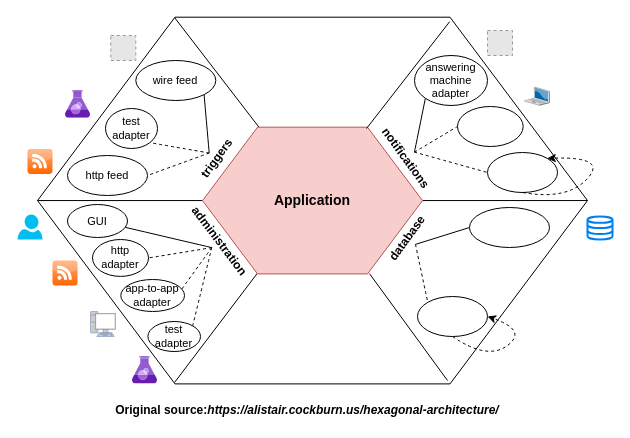
The diagram is 630 pixels wide and 438 high, and some of its shapes have lost their labels. Grey dashed boxes stand in for pictures. The shapes that lost their labels are listed below. From the top down, each one's centre as x and y in pixels, then its label:
At (x=489, y=126): "email adapter".
At (x=522, y=172): "mock telephone".
At (x=509, y=227): "database adapter".
At (x=599, y=227): "DB".
At (x=452, y=316): "mock database".
